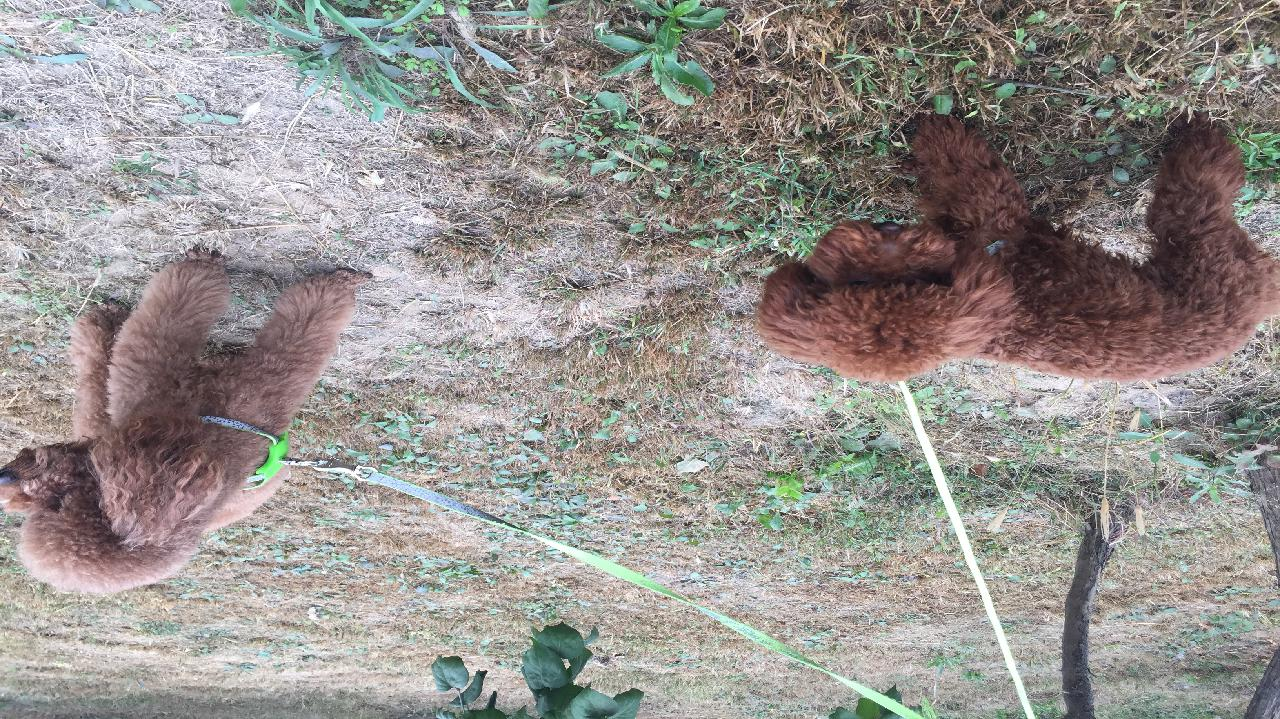coin: (769, 107, 1280, 372)
zhuangzhuang: (7, 279, 385, 589)
